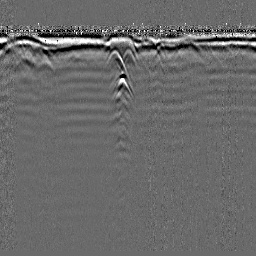cavity: (122, 45, 136, 63)
